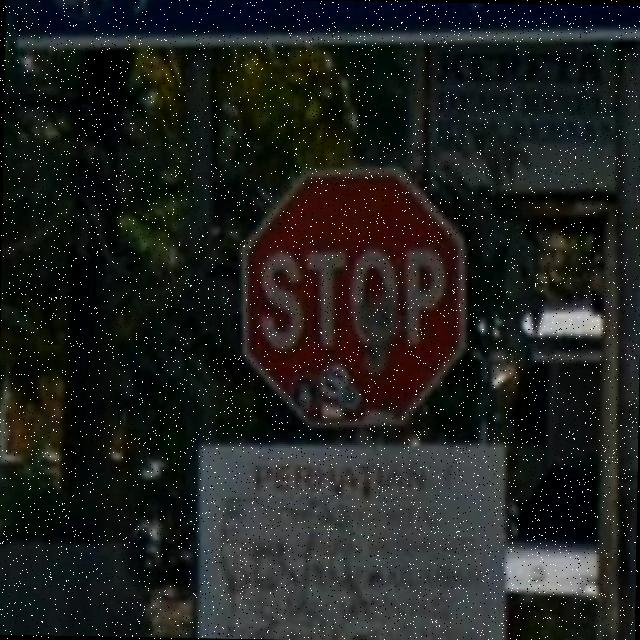Stop: (241, 166, 467, 421)
